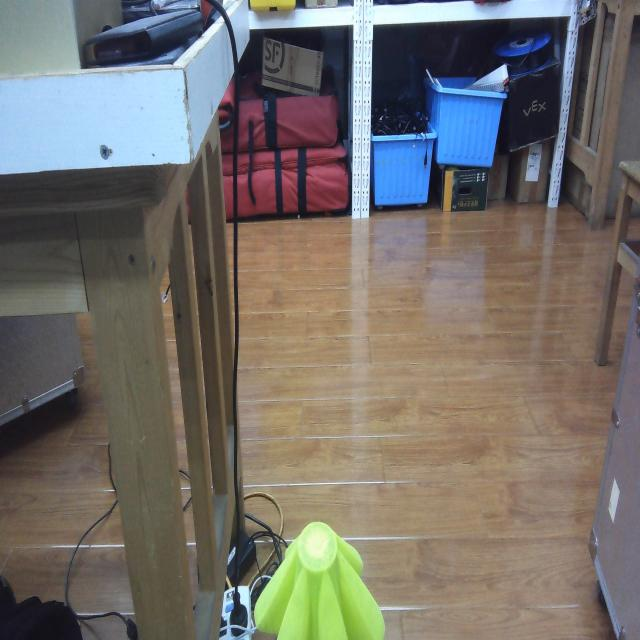Yellow-Stake-Head: (254, 520, 385, 640)
